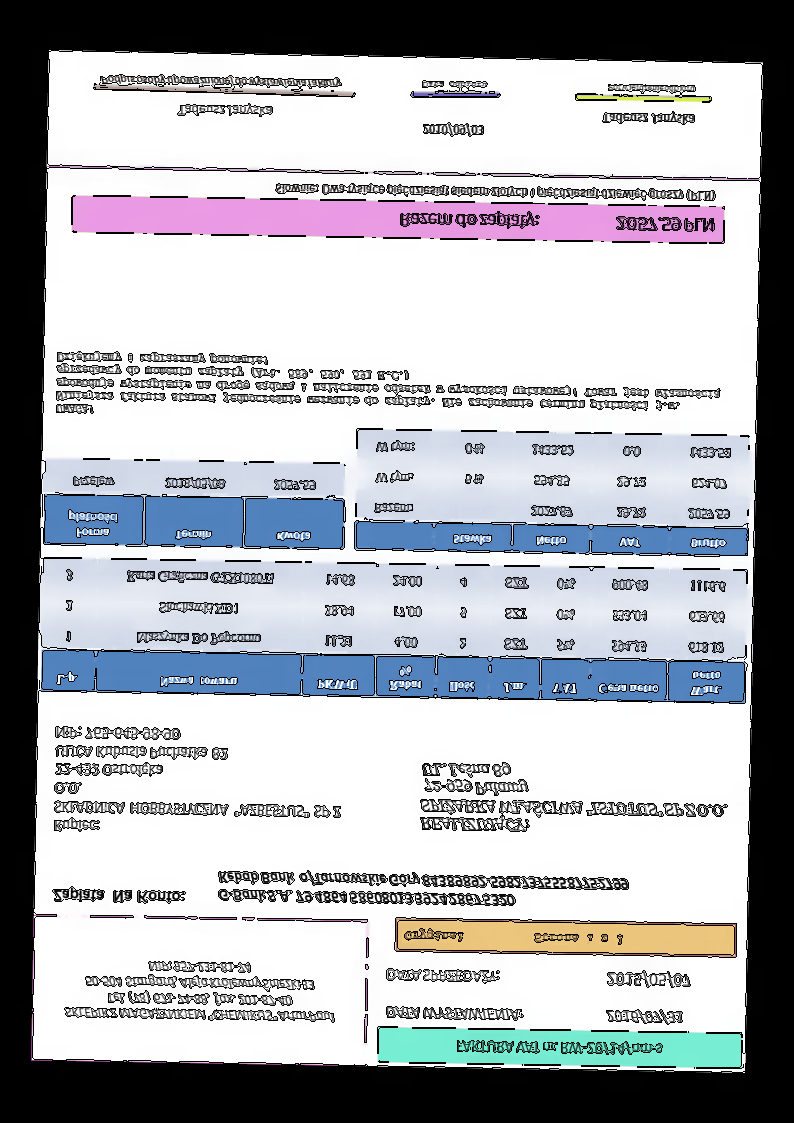Table: (39, 556, 749, 705), (353, 427, 750, 558), (42, 456, 347, 551)
TextBox: (54, 349, 725, 429), (50, 724, 345, 840), (416, 758, 731, 839), (59, 955, 338, 1029), (215, 868, 631, 913), (272, 179, 717, 206), (396, 209, 718, 239), (452, 1035, 664, 1063), (96, 72, 344, 95), (402, 926, 627, 949), (383, 1004, 525, 1026), (383, 964, 502, 989), (51, 886, 186, 908), (601, 108, 698, 130), (603, 968, 694, 991), (175, 102, 274, 121), (602, 1008, 684, 1028), (606, 80, 697, 96), (420, 121, 486, 140), (420, 77, 489, 93)
